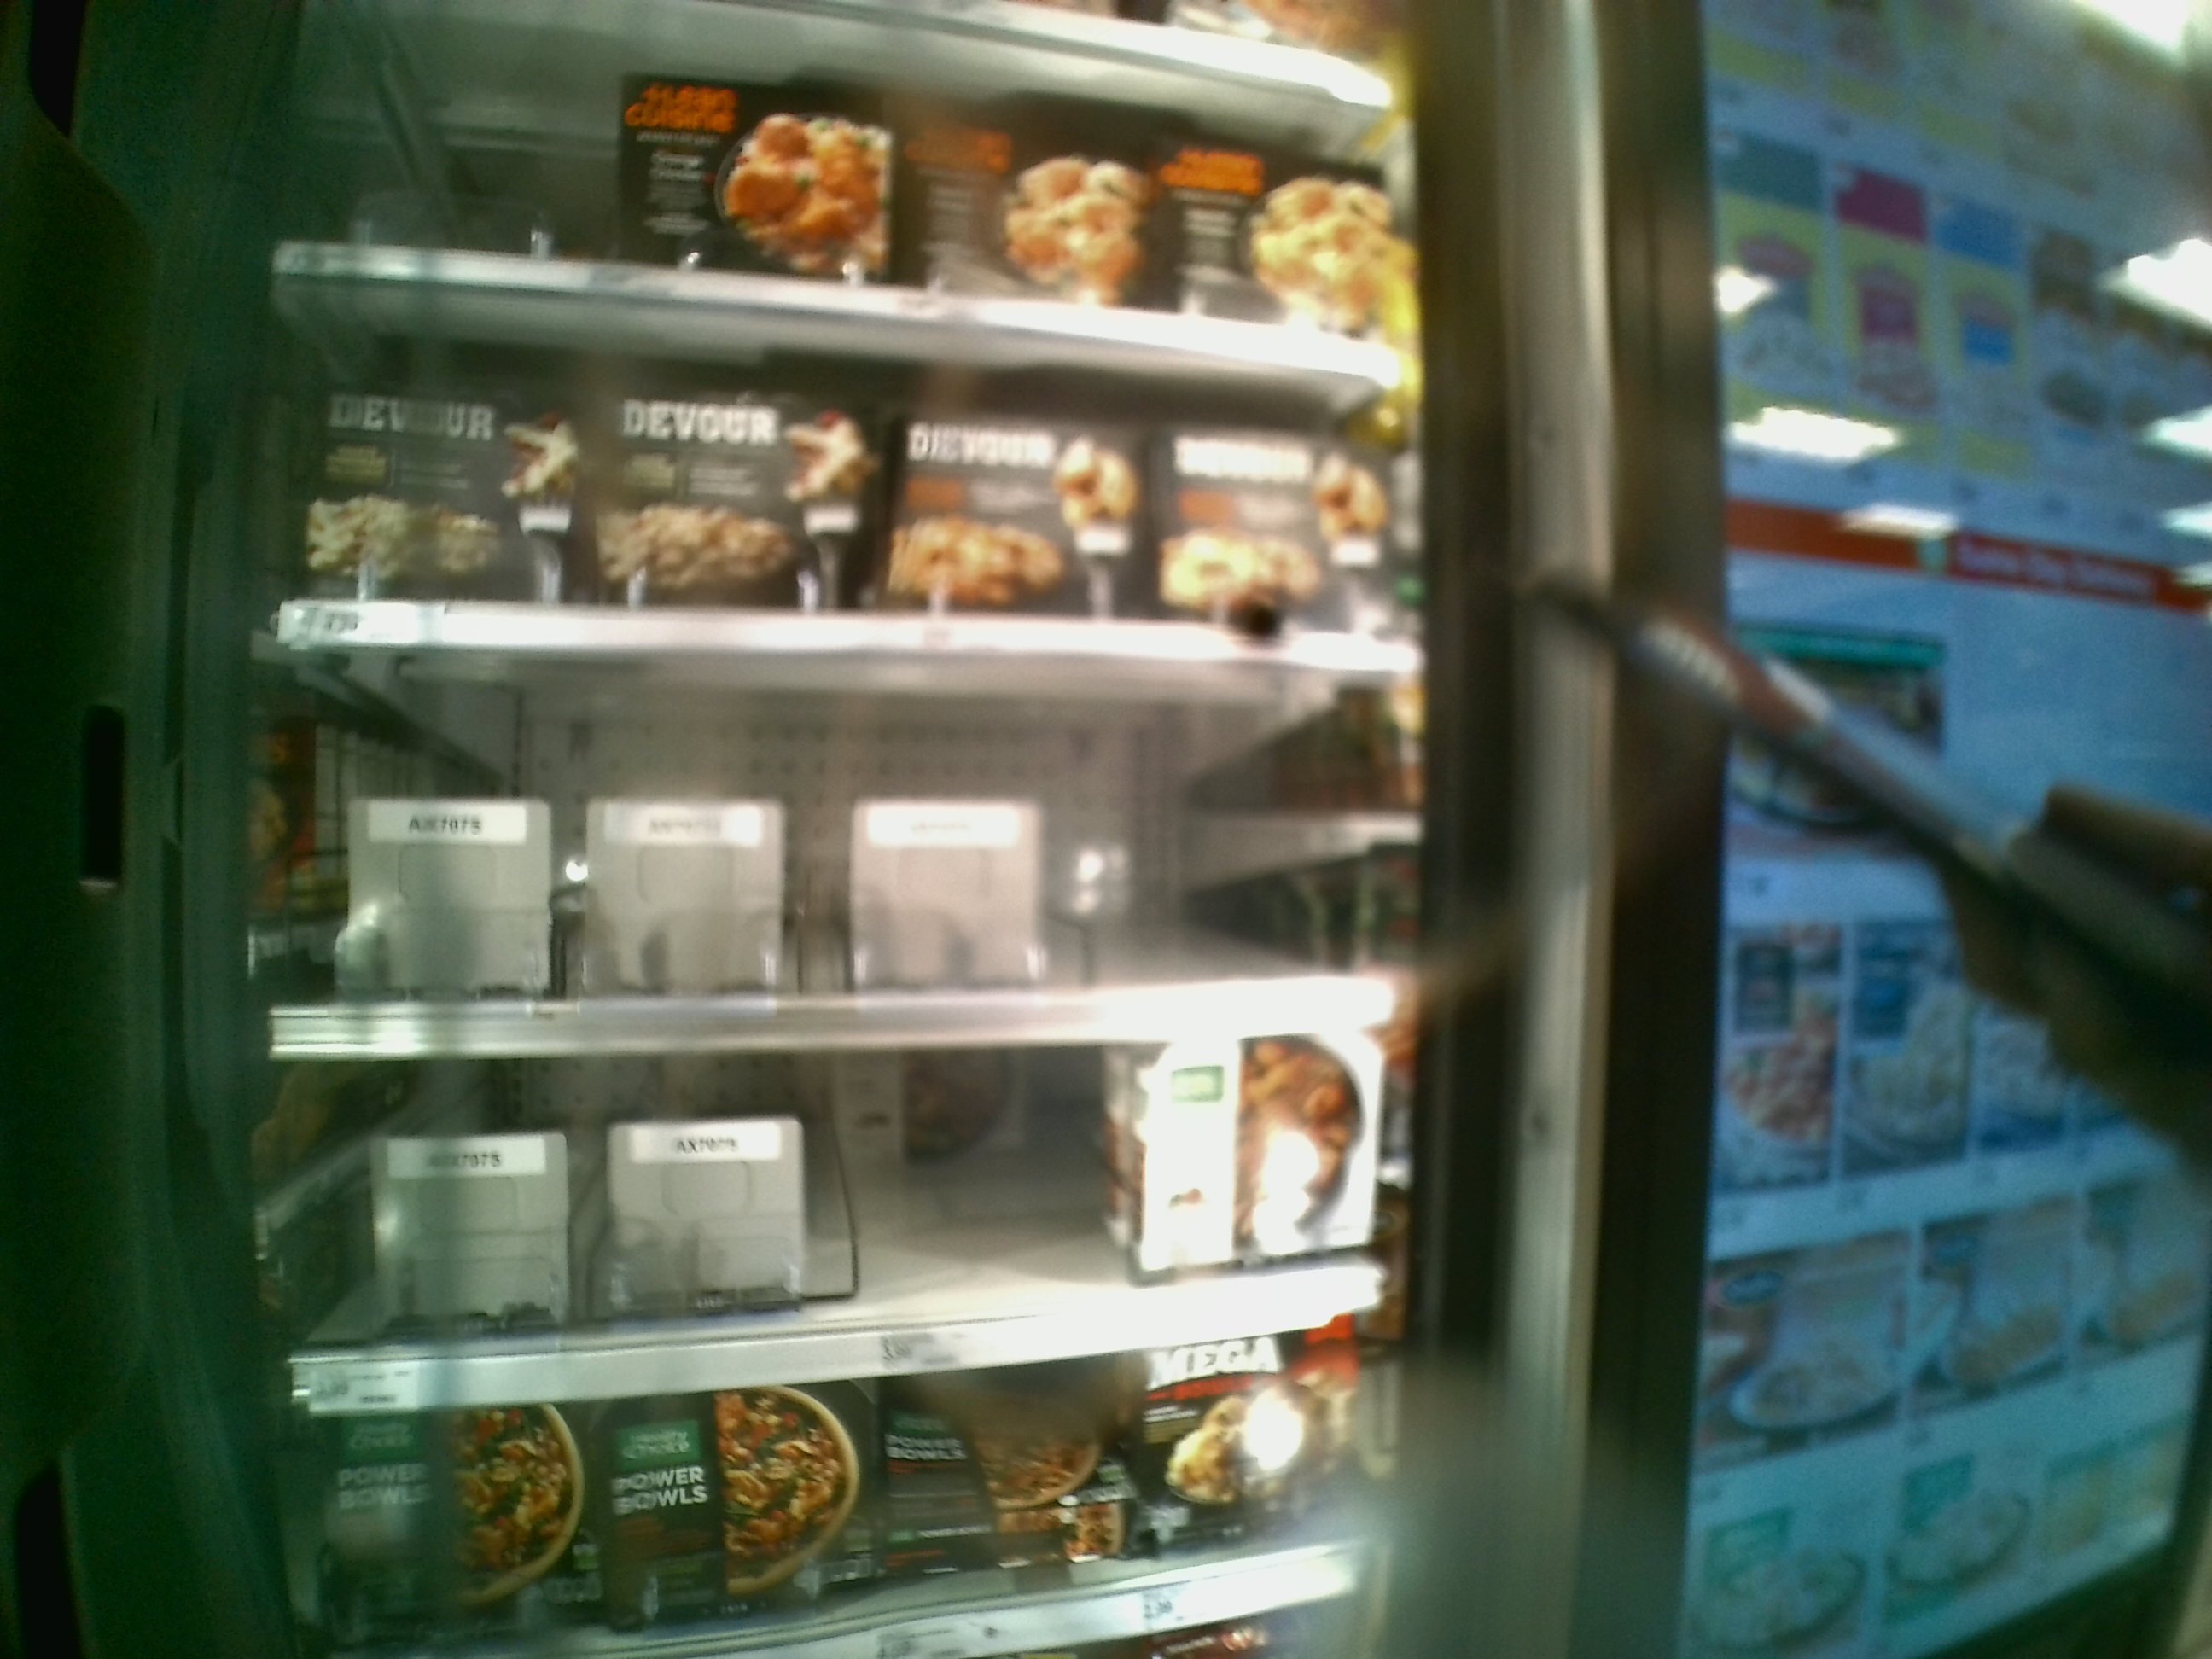Shelf: (263, 643, 1420, 1063), (268, 279, 1425, 671), (273, 1014, 1400, 1401)
